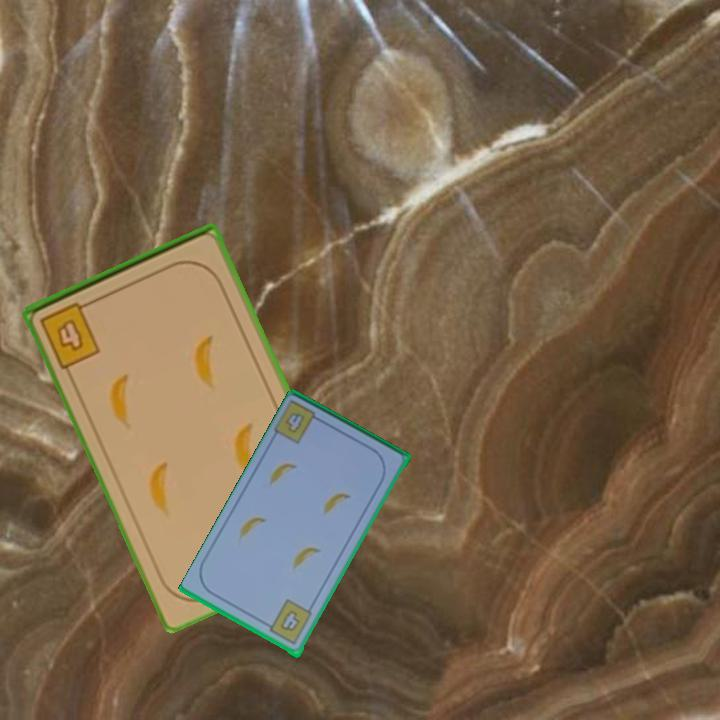4b: (36, 297, 103, 371), (272, 397, 327, 448), (262, 596, 315, 648)
